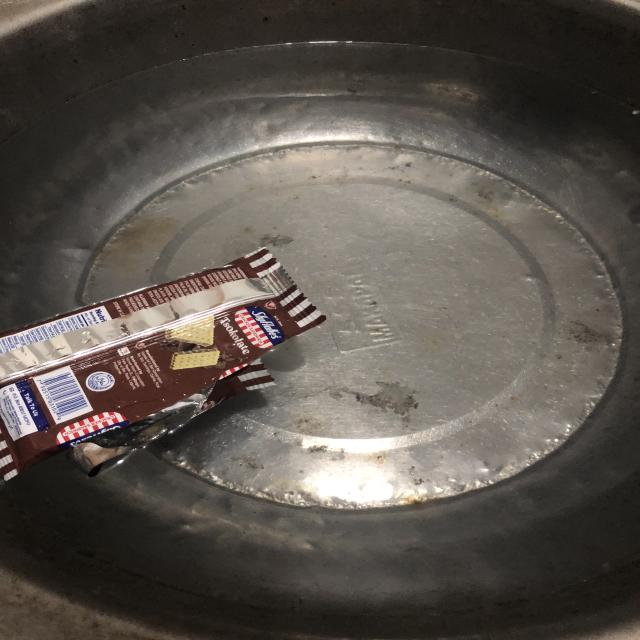Plastic Wrapper: (0, 243, 345, 491)
